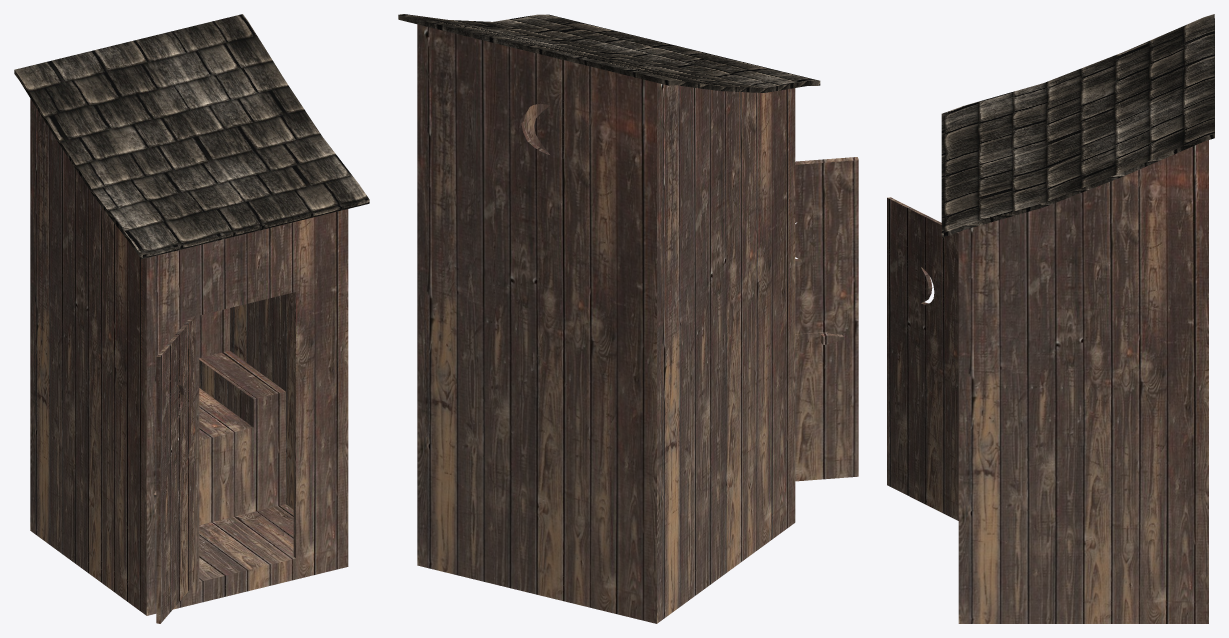
The model's file is bathroom.obj.
3 views of the same model, side by side, from view 1: azimuth 30°, elevation 25°; view 2: azimuth 150°, elevation 25°; view 3: azimuth 270°, elevation 25° (orthographic). The views are drawn at different scales.
Visible parts, largest first — view 1: bathroom, Door; view 2: bathroom, Door; view 3: bathroom, Door.
Part boxes in pixels (box(x1,y1,x2,y2)): bathroom: box(14, 14, 369, 615); Door: box(154, 315, 195, 623); bathroom: box(398, 14, 820, 623); Door: box(795, 157, 858, 481); bathroom: box(941, 14, 1214, 623); Door: box(887, 197, 958, 520).
Bounding box in the file's own units: 176 × 329 × 196.
